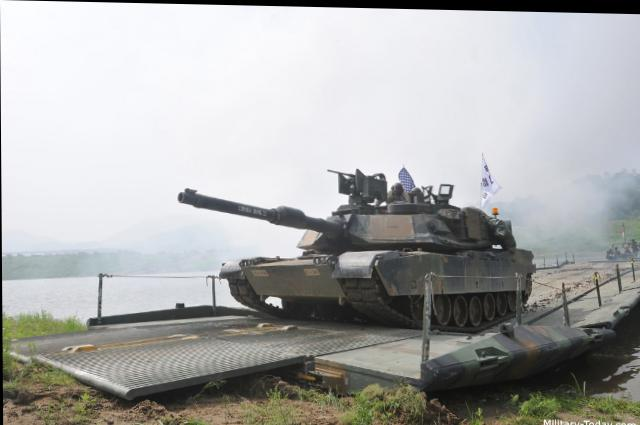tank: (221, 164, 548, 334)
